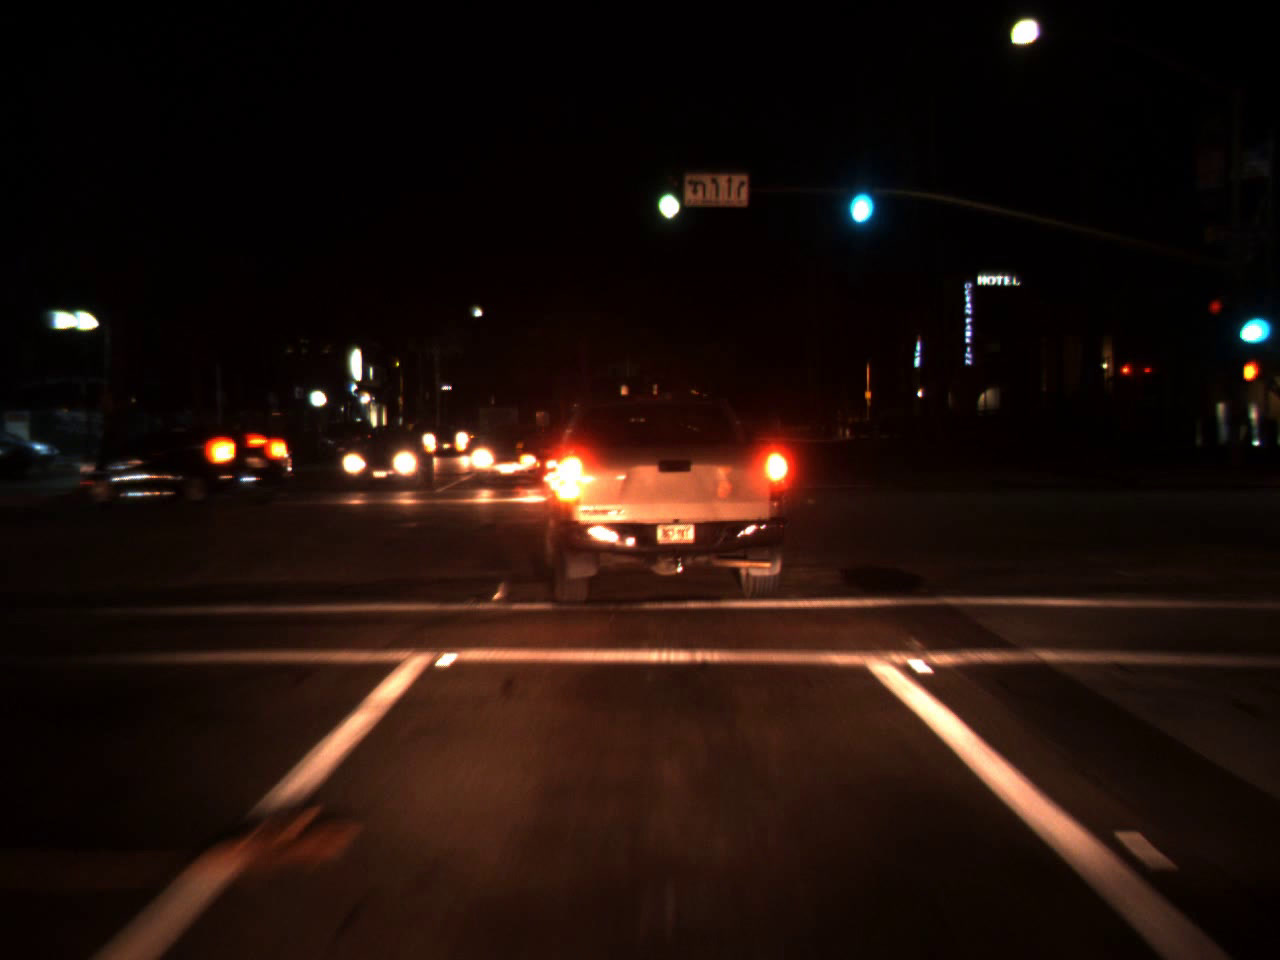go: (840, 160, 877, 229), (650, 163, 684, 229), (1233, 301, 1267, 348)
